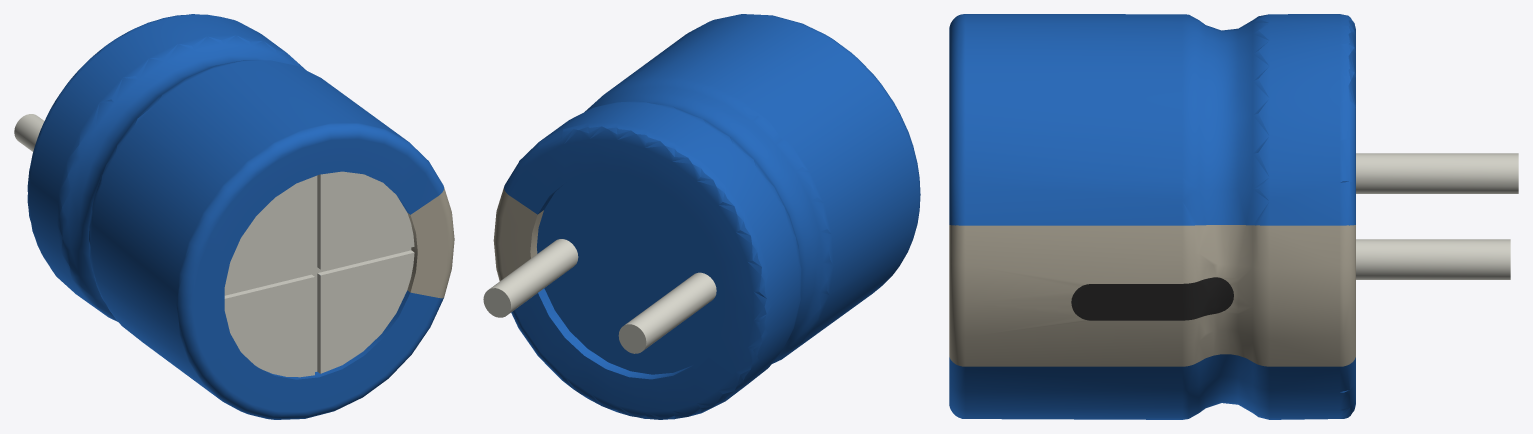
Rendered from cp-radial-d5.0-p2.50.glb.
3 renders of one model, left to right at view 1: azimuth 30°, elevation 25°; view 2: azimuth 150°, elevation 25°; view 3: azimuth 270°, elevation 25°, orthographic. The views are drawn at different scales.
Parts seen in each view (by area): view 1: PLASTIC-BLUE-01, PIN-01, IC-LABEL-01; view 2: PLASTIC-BLUE-01, PIN-01, IC-LABEL-01; view 3: PLASTIC-BLUE-01, IC-LABEL-01, PIN-01, IC-BODY-EPOXY-04.
Part boxes in pixels (x1=…): PLASTIC-BLUE-01: x1=27, y1=14, x2=443, y2=419; PIN-01: x1=14, y1=114, x2=414, y2=377; IC-LABEL-01: x1=407, y1=187, x2=454, y2=298; PLASTIC-BLUE-01: x1=504, y1=14, x2=920, y2=419; PIN-01: x1=483, y1=239, x2=716, y2=353; IC-LABEL-01: x1=493, y1=188, x2=543, y2=280; PLASTIC-BLUE-01: x1=949, y1=14, x2=1355, y2=419; IC-LABEL-01: x1=949, y1=225, x2=1355, y2=366; PIN-01: x1=1356, y1=153, x2=1518, y2=279; IC-BODY-EPOXY-04: x1=1071, y1=277, x2=1233, y2=320.
Bounding box in the file's own units: 5 × 4.99 × 7.
